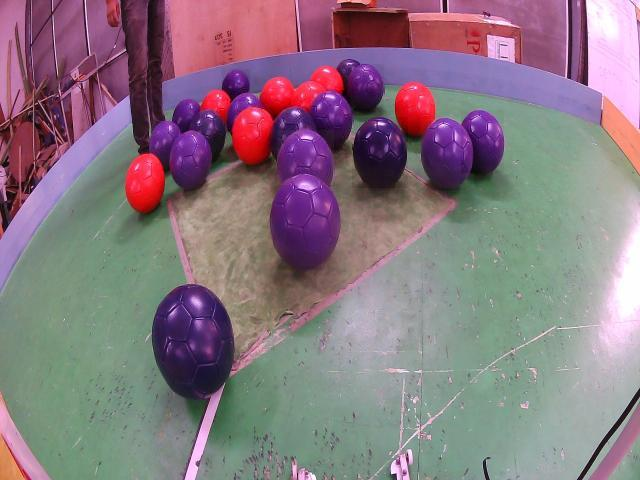jambhalya: (270, 174, 340, 270), (421, 119, 474, 188), (277, 130, 334, 185), (461, 110, 504, 173), (310, 90, 353, 150), (170, 130, 212, 190), (349, 65, 384, 111), (150, 122, 181, 169), (227, 94, 263, 132), (173, 99, 200, 133), (223, 70, 250, 101)
kaalyya: (151, 284, 234, 398), (352, 117, 408, 188), (271, 107, 317, 159), (188, 110, 227, 159), (336, 58, 360, 100)
